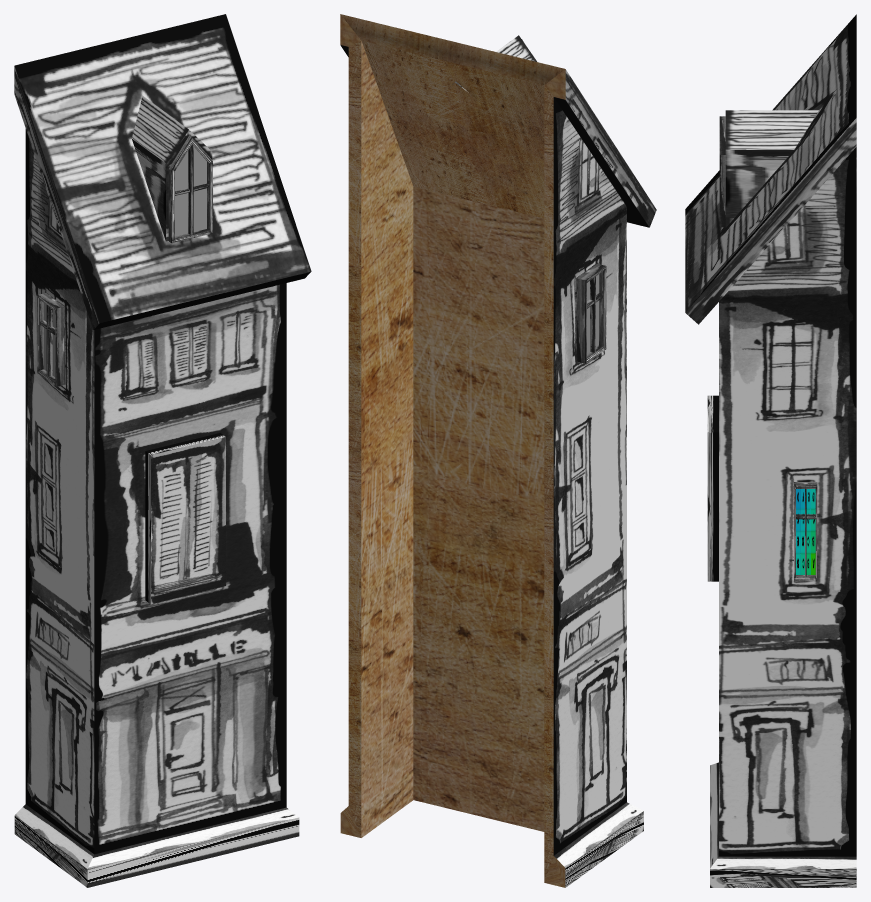
File: House10.fbx
3 renders of one model, left to right at view 1: azimuth 30°, elevation 25°; view 2: azimuth 150°, elevation 25°; view 3: azimuth 270°, elevation 25°, orthographic. The views are drawn at different scales.
Visible parts, largest first — view 1: House10; view 2: House10; view 3: House10.
Boxes of the visible parts, left/top/right/bottom form: House10: left=14, top=14, right=311, bottom=887; House10: left=340, top=14, right=656, bottom=887; House10: left=685, top=14, right=856, bottom=887.
Bounding box in the file's own units: 5.01 × 17.36 × 3.5.
